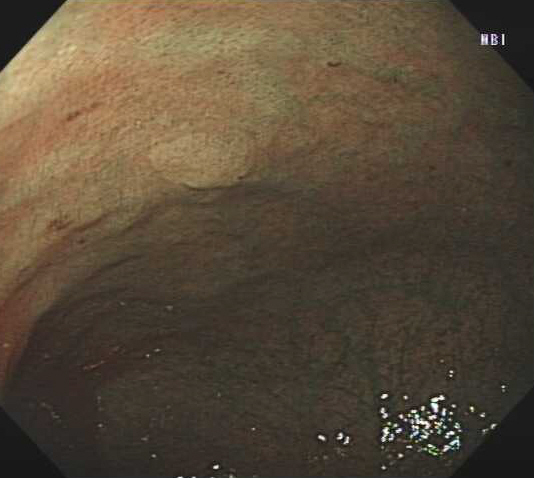others: (140, 129, 262, 191)
